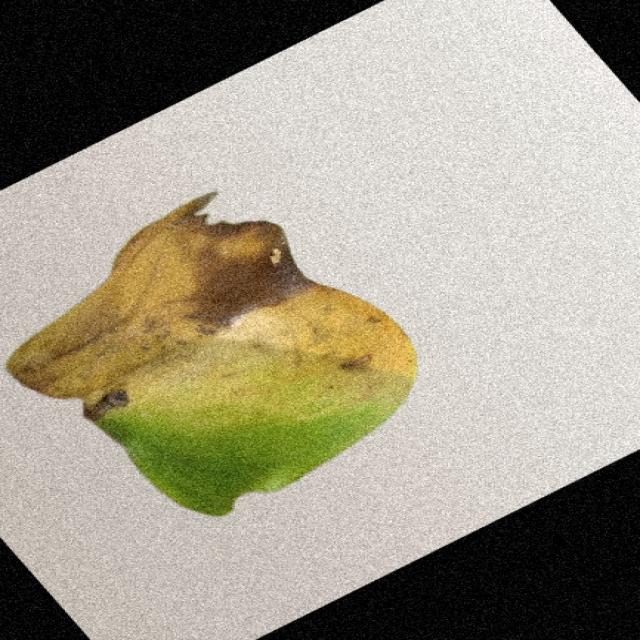daun berpenyakit kuning: (9, 193, 417, 516)
